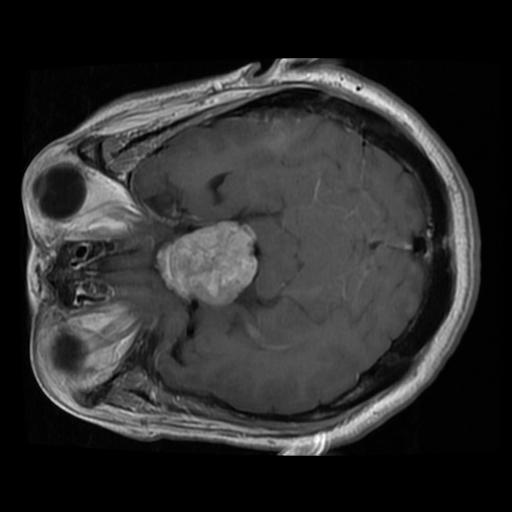pituitary tumour: (157, 221, 254, 305)
